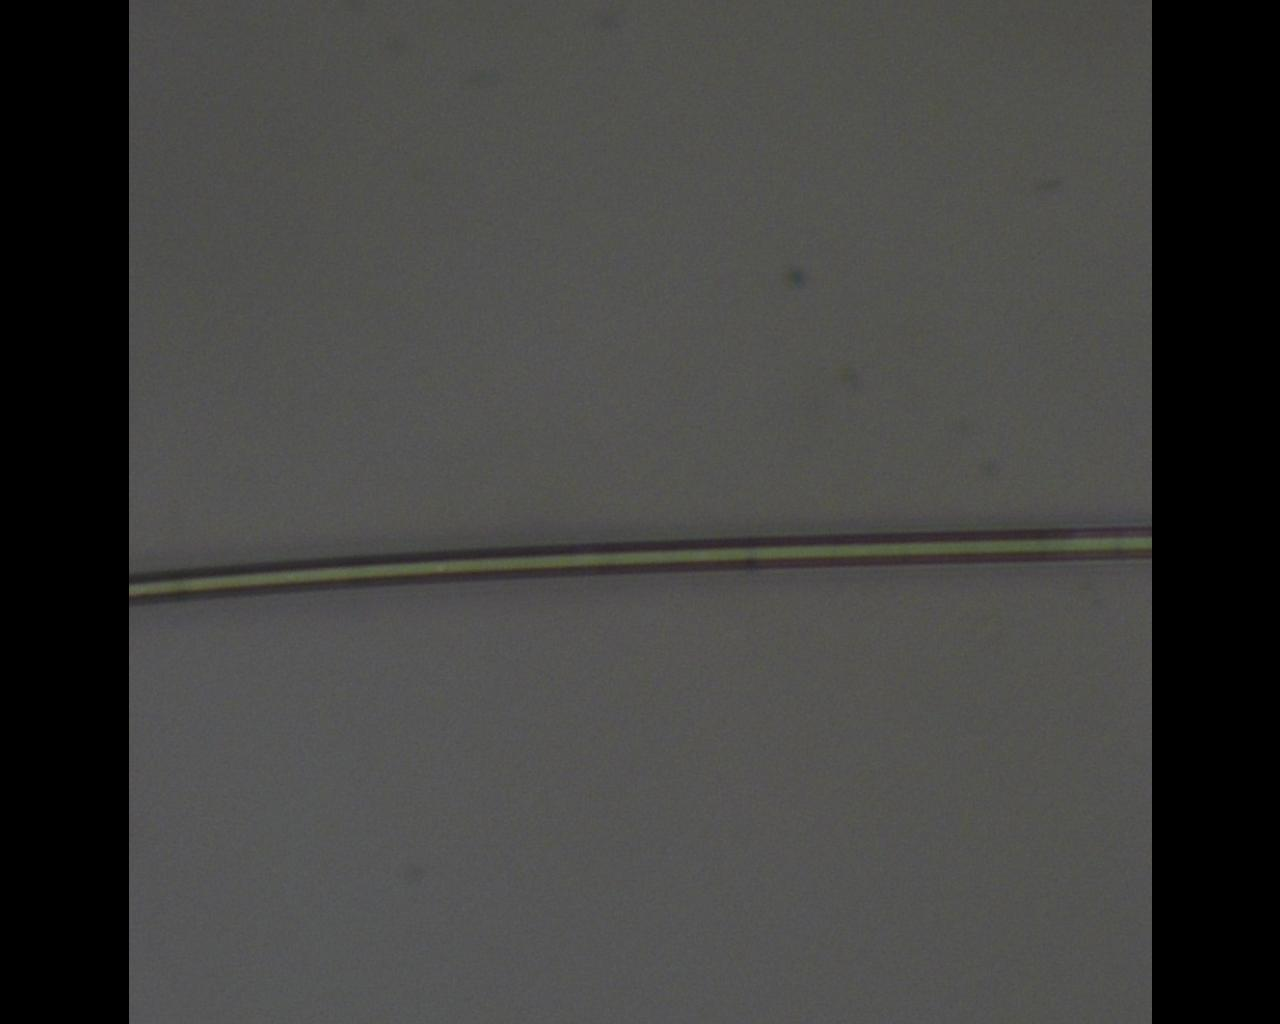fiber: (128, 319, 1152, 855)
